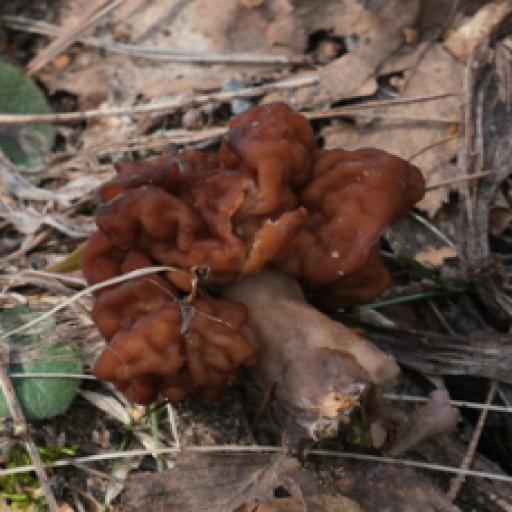mushroom: (69, 89, 430, 459)
